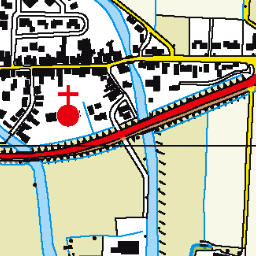church: (55, 83, 82, 128)
